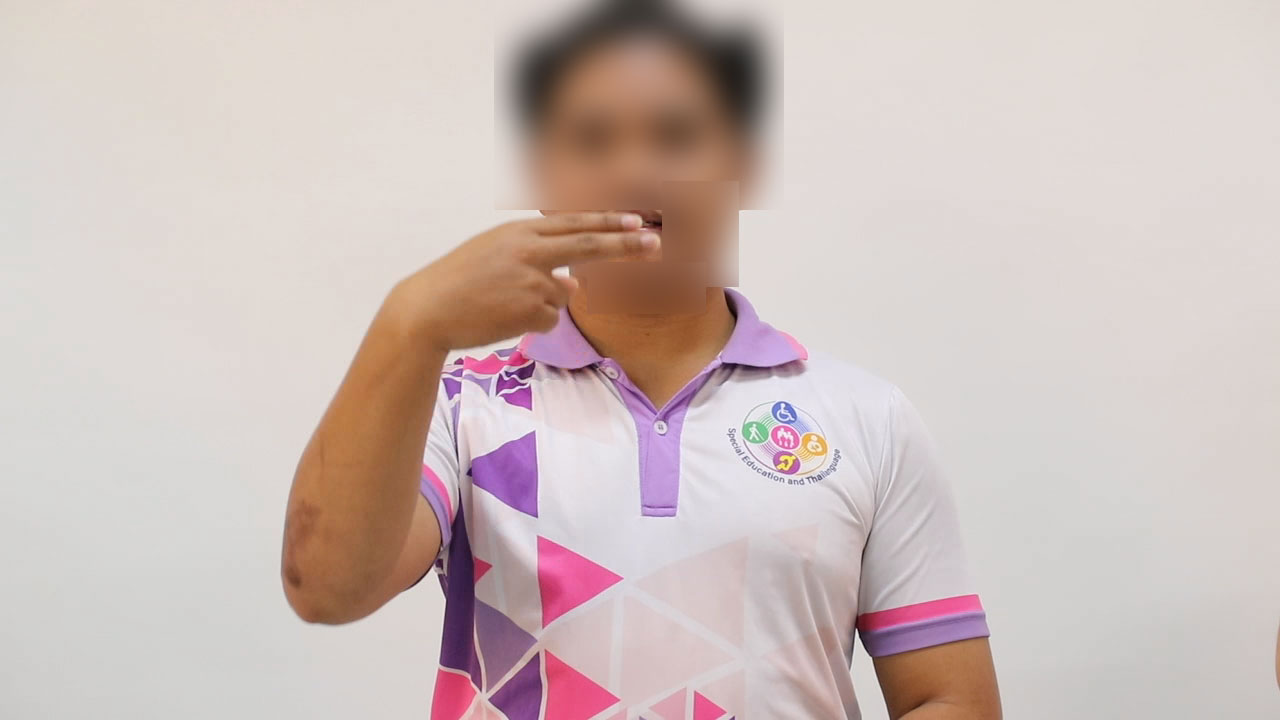hor: (380, 201, 674, 363)
